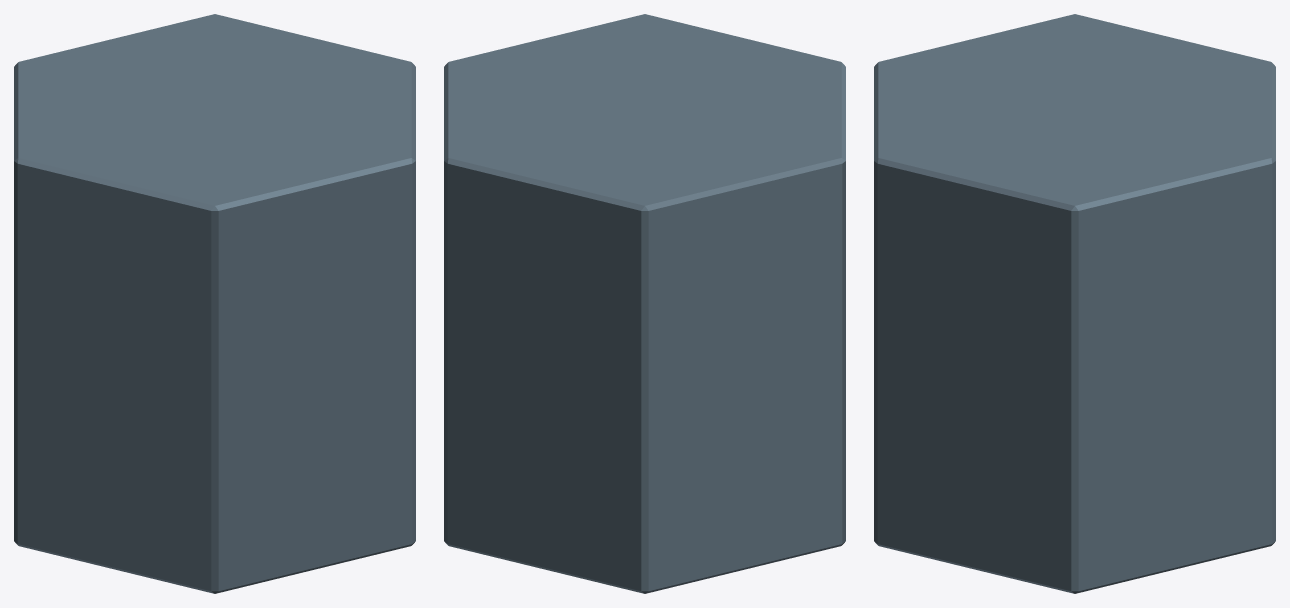
Rendered from P23_HexagonalPrism.fbx.
3 views of the same model, side by side, from view 1: azimuth 30°, elevation 25°; view 2: azimuth 150°, elevation 25°; view 3: azimuth 270°, elevation 25° (orthographic).
Visible parts, largest first — view 1: P23_HexagonalPrism; view 2: P23_HexagonalPrism; view 3: P23_HexagonalPrism.
Boxes of the visible parts, x1,y1,x2,y2 form: P23_HexagonalPrism: (14, 14, 415, 593); P23_HexagonalPrism: (444, 14, 845, 593); P23_HexagonalPrism: (874, 14, 1275, 593).
Bounding box in the file's own units: 1.29 × 1.2 × 1.13.
1 material, 1 textured.
